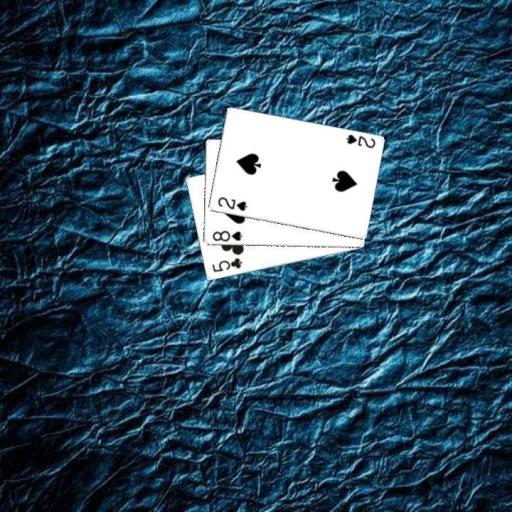card-corner: (209, 254, 243, 274), (214, 194, 248, 213), (343, 132, 377, 150), (209, 228, 243, 242)
